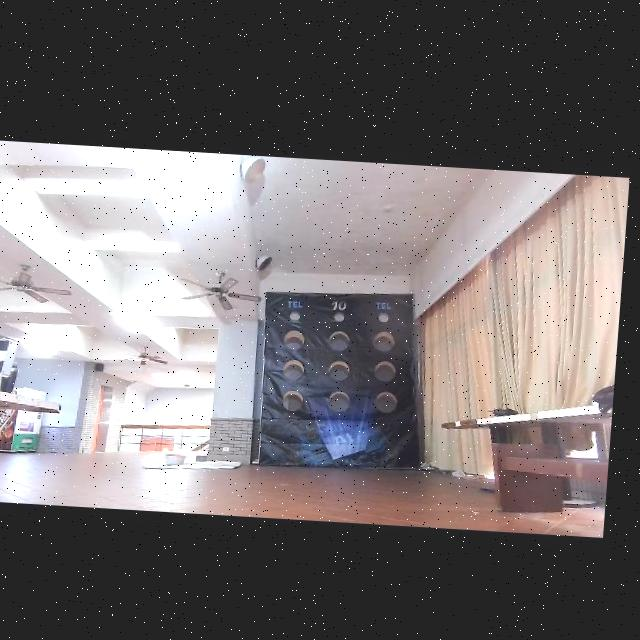hole: (373, 390, 400, 414), (327, 390, 353, 414), (282, 358, 306, 382), (281, 389, 305, 413), (328, 360, 351, 383), (374, 360, 396, 382), (283, 329, 306, 350), (372, 331, 395, 352), (329, 331, 351, 352), (378, 312, 389, 323), (290, 311, 300, 321), (334, 312, 344, 321)
